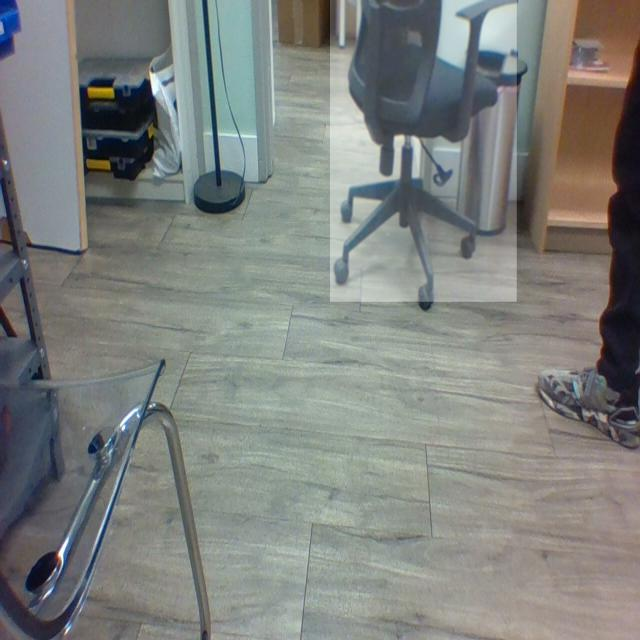black-chair: (331, 0, 518, 303)
